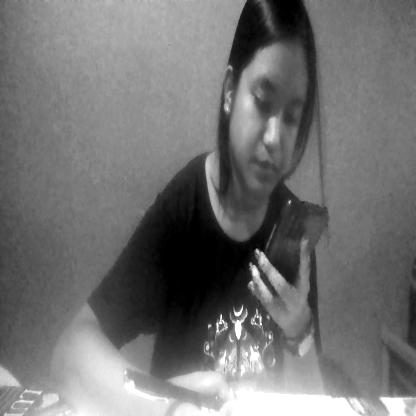Distracted: (213, 0, 311, 193)
